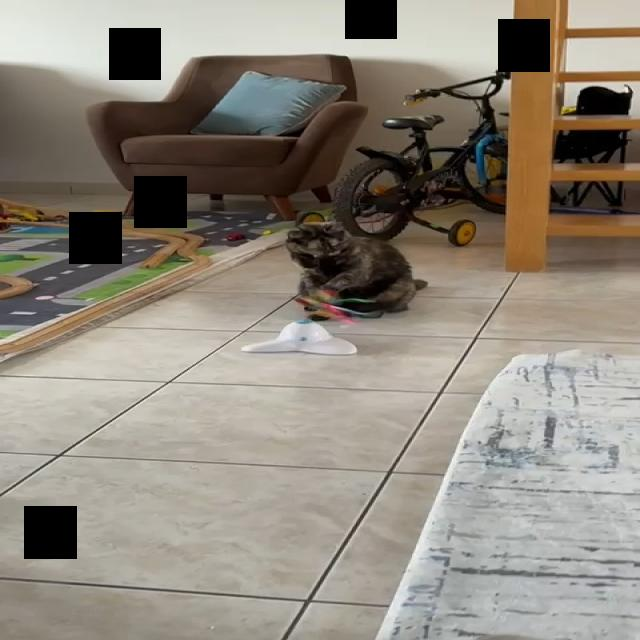authorized: (283, 220, 428, 318)
